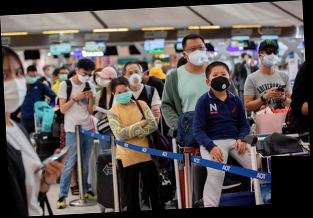with_mask: (4, 67, 29, 114), (188, 43, 208, 68), (210, 70, 231, 93), (262, 47, 280, 69), (114, 87, 133, 105), (126, 69, 143, 87), (77, 70, 94, 84), (97, 75, 111, 89), (26, 72, 39, 85), (57, 71, 70, 82), (154, 60, 163, 70), (46, 67, 53, 76)
